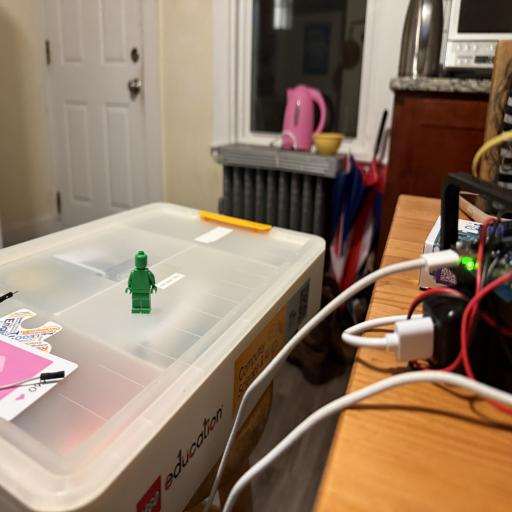Minifig: (125, 251, 157, 314)
